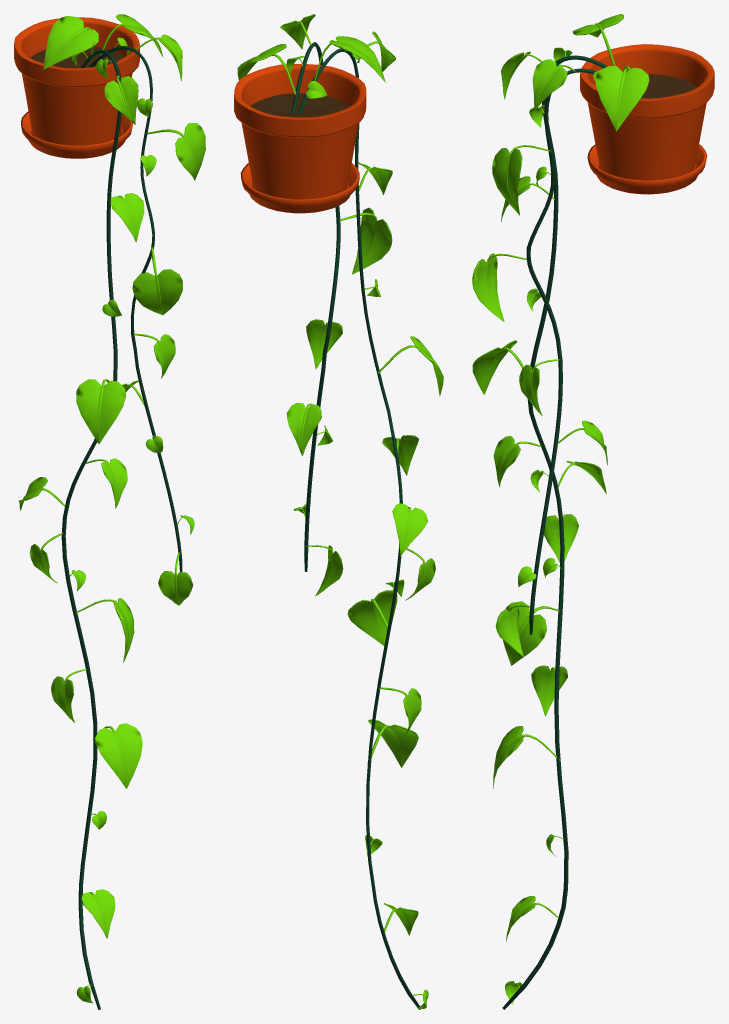
File: PothosPlant_no1_modell_alvin_002.fbx
3 renders of one model, left to right at view 1: azimuth 30°, elevation 25°; view 2: azimuth 150°, elevation 25°; view 3: azimuth 270°, elevation 25°, orthographic. The views are drawn at different scales.
Parts seen in each view (by area): view 1: pothos.044, pothos.001; view 2: pothos.044, pothos.001; view 3: pothos.044, pothos.001.
Boxes of the visible parts, bbox=[...] form: pothos.044: bbox=[19, 14, 205, 1009]; pothos.001: bbox=[14, 17, 139, 158]; pothos.044: bbox=[237, 14, 443, 1009]; pothos.001: bbox=[234, 64, 366, 213]; pothos.044: bbox=[472, 14, 649, 1009]; pothos.001: bbox=[580, 44, 714, 194].
Size of the model in its own units: 767 by 4374 by 956.
